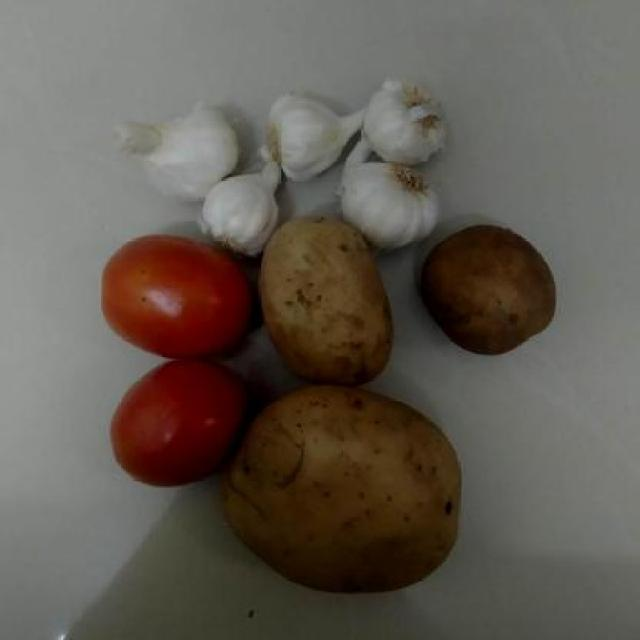Garlic: (112, 106, 246, 200), (260, 97, 360, 186), (338, 158, 440, 238), (355, 88, 463, 162), (202, 180, 278, 260)
Potato: (224, 392, 478, 597), (262, 216, 398, 390), (418, 224, 564, 358)
Tomato: (97, 234, 254, 358), (97, 357, 240, 488)
